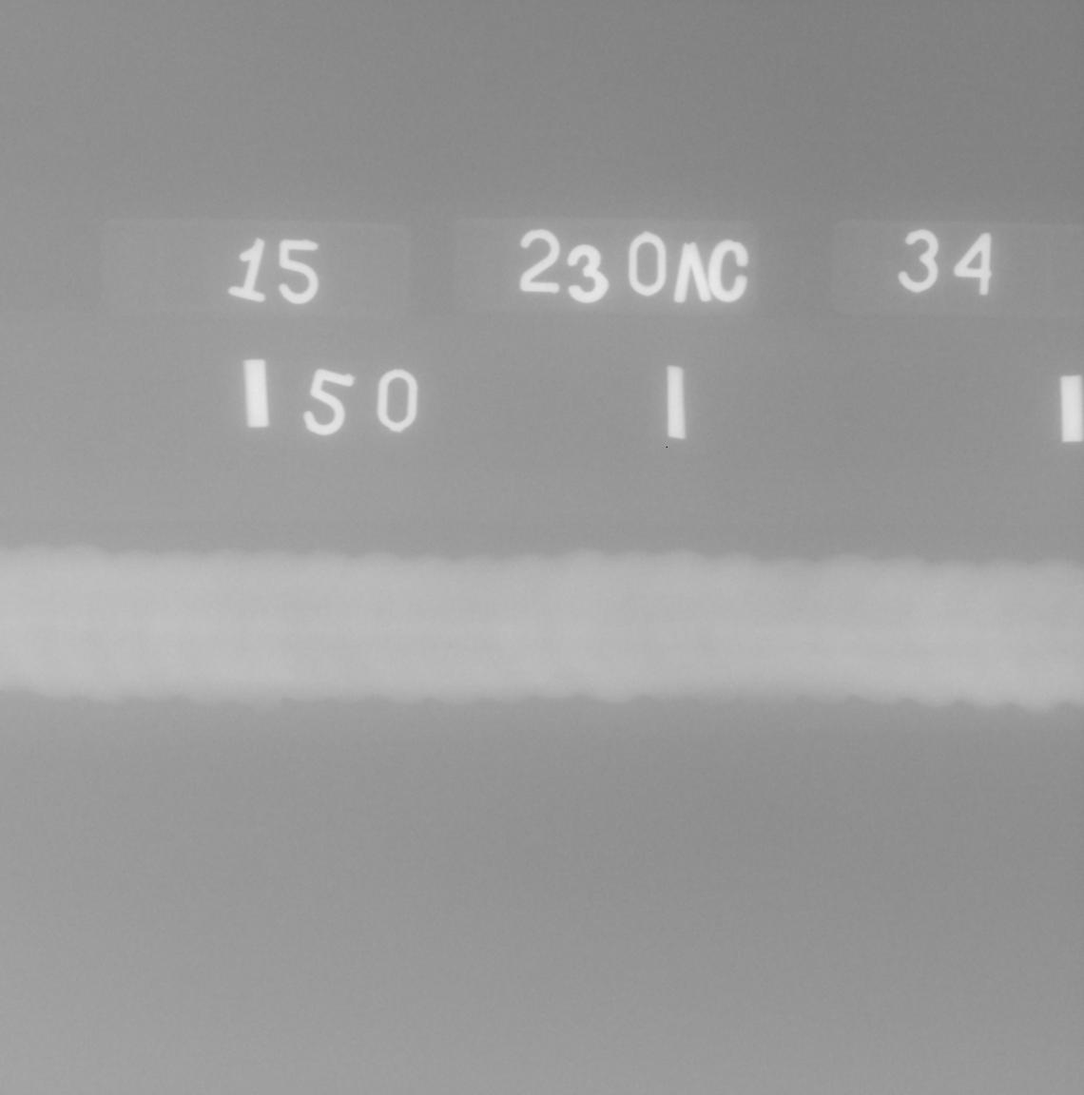Inclusion: (788, 608, 806, 613)
